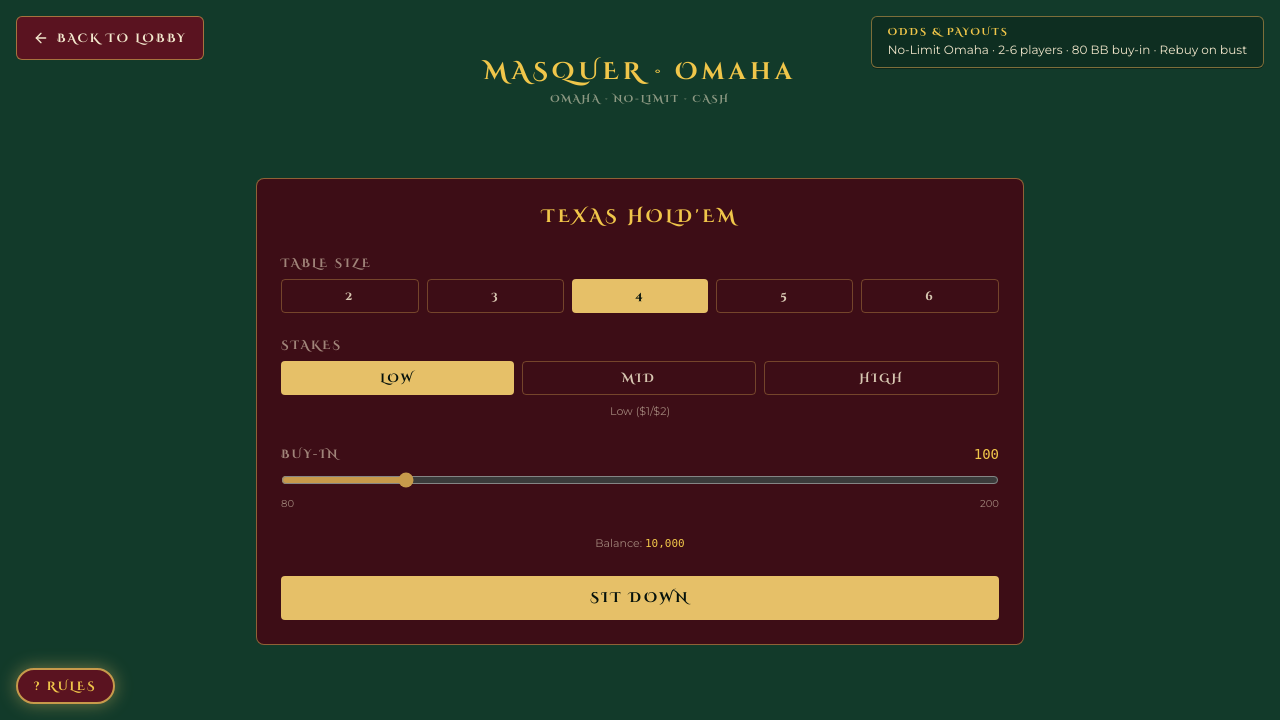
Test case: OmahaPage — gameplay › player seat shows 4 hole cards (face-up)
Click the button "2" at (350, 296), box left=281, top=279, right=419, bottom=313
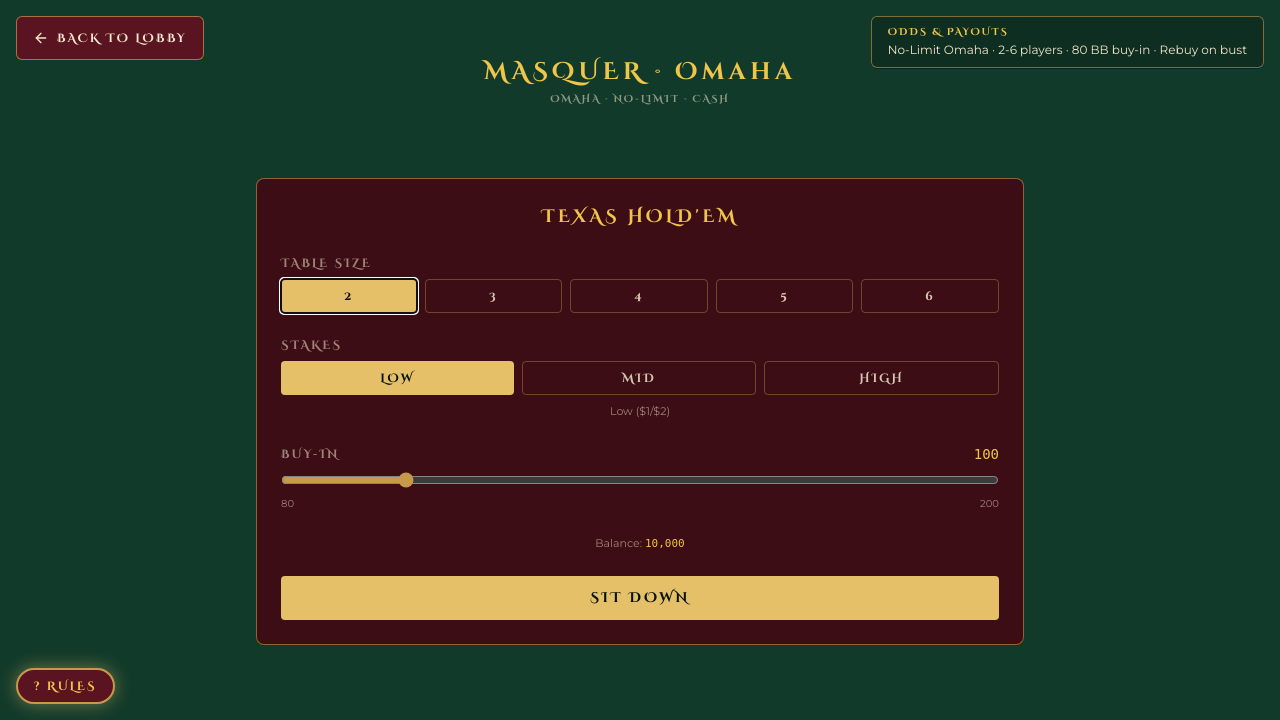
Click the button "SIT DOWN" at (640, 598), box left=281, top=576, right=999, bottom=620
(page scrolled)
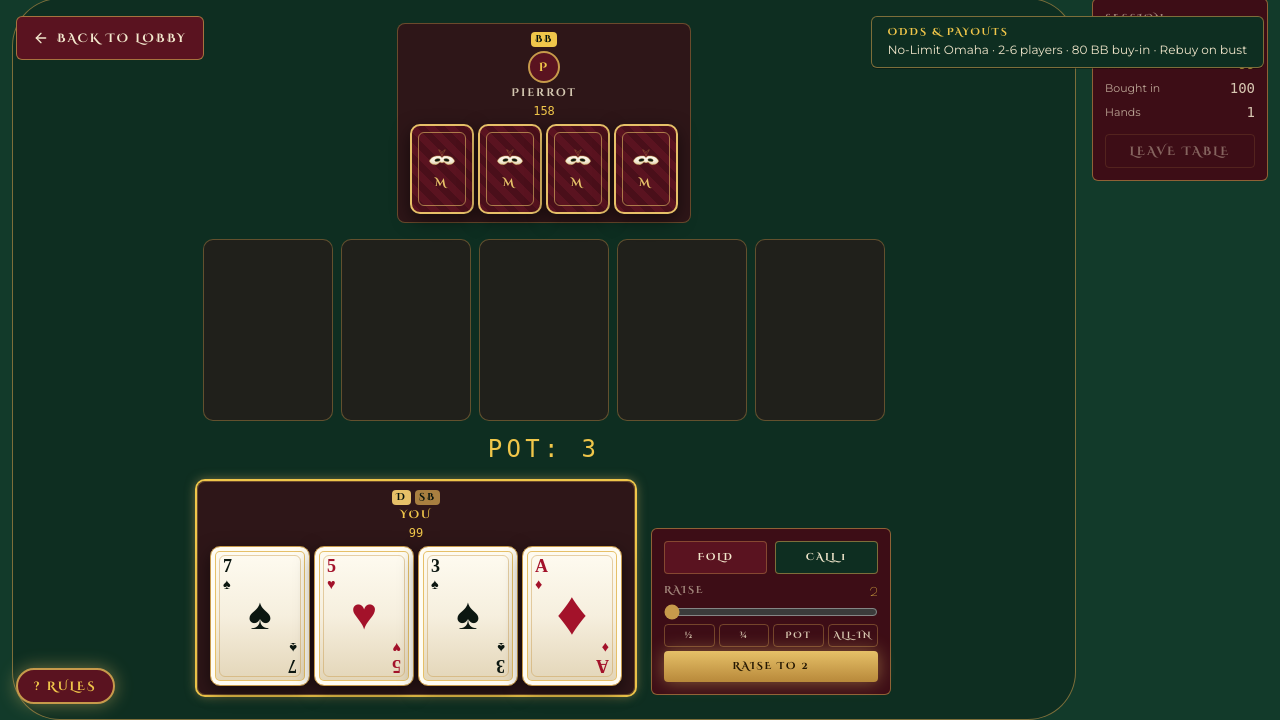
Expected: the button "LEAVE TABLE" is shown, left=1105, top=134, right=1255, bottom=168
Expected: the element that starts with "YOU" is shown, left=197, top=481, right=891, bottom=695
